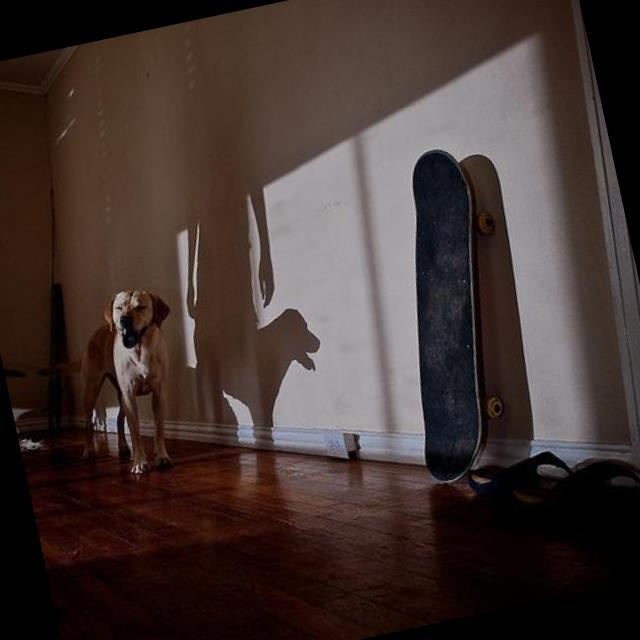dog: (50, 282, 201, 486)
skateboard: (359, 142, 540, 483)
